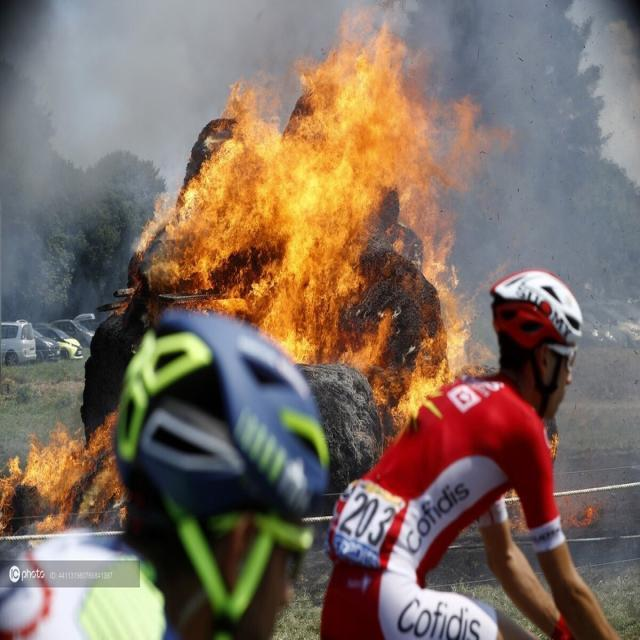Fire: (166, 48, 440, 295), (0, 431, 117, 533), (266, 290, 356, 362)
